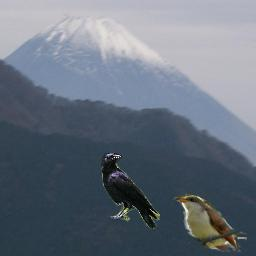Crow: (101, 153, 160, 229)
Cuckoo: (172, 190, 247, 252)
